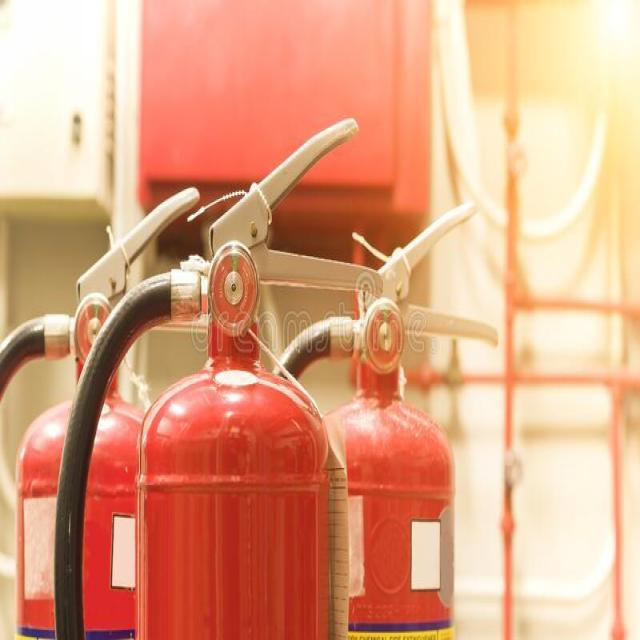fire_extinguisher: (46, 111, 387, 639), (236, 195, 502, 638), (0, 179, 213, 639)
